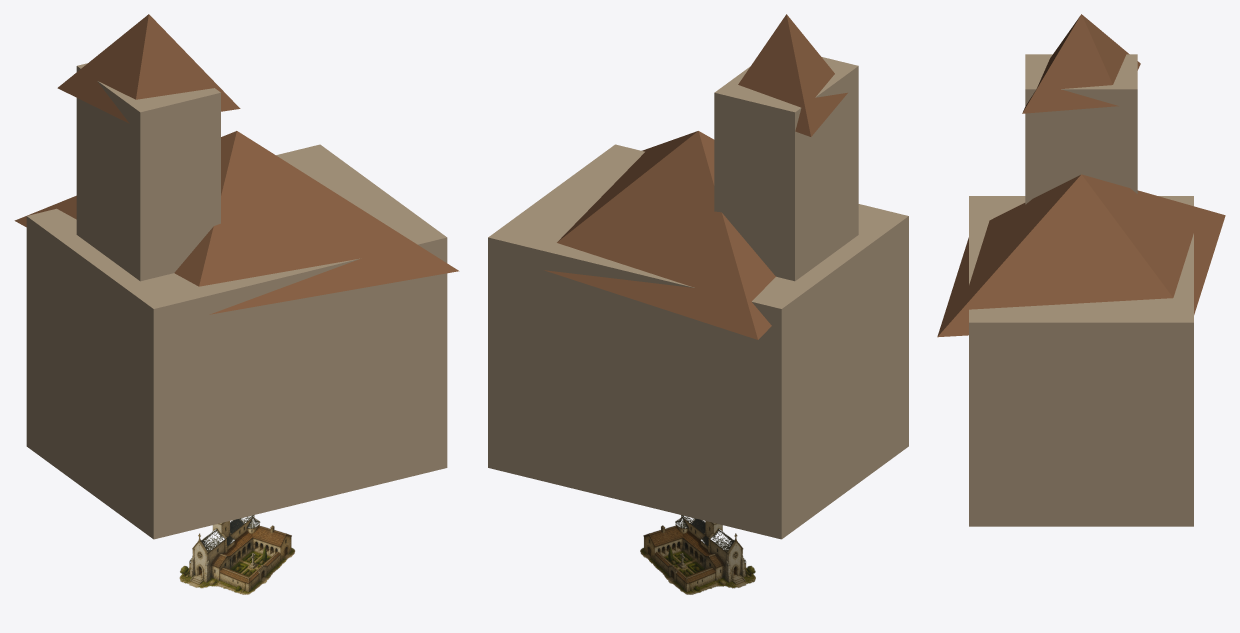
Rendered from monastero.glb.
3 renders of one model, left to right at view 1: azimuth 30°, elevation 25°; view 2: azimuth 150°, elevation 25°; view 3: azimuth 270°, elevation 25°, orthographic. The views are drawn at different scales.
Parts seen in each view (by area): view 1: Body, Tower, Roof, TowerRoof, CatalogTexture; view 2: Body, Roof, Tower, CatalogTexture, TowerRoof; view 3: Body, Roof, Tower, TowerRoof.
Part boxes in pixels (x1=…): Body: x1=26, y1=144, x2=447, y2=539; Tower: x1=76, y1=63, x2=220, y2=281; Roof: x1=14, y1=131, x2=459, y2=314; TowerRoof: x1=57, y1=14, x2=240, y2=123; CatalogTexture: x1=179, y1=515, x2=295, y2=594; Body: x1=488, y1=144, x2=908, y2=539; Roof: x1=544, y1=131, x2=775, y2=339; Tower: x1=714, y1=57, x2=858, y2=281; CatalogTexture: x1=640, y1=515, x2=755, y2=594; TowerRoof: x1=738, y1=14, x2=847, y2=136; Body: x1=969, y1=196, x2=1193, y2=526; Roof: x1=937, y1=174, x2=1225, y2=337; Tower: x1=1025, y1=54, x2=1137, y2=204; TowerRoof: x1=1022, y1=14, x2=1140, y2=113.
Size of the model in its own units: 2 by 3.99 by 1.92.
Materials: 3 (1 with a texture image).
